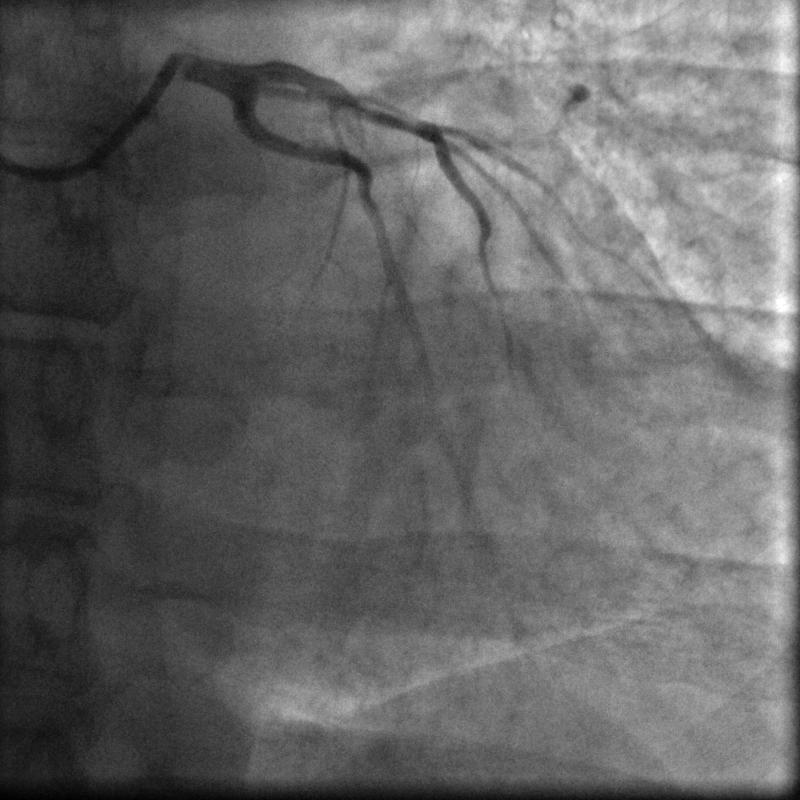Stenosis: (332, 87, 424, 133)
